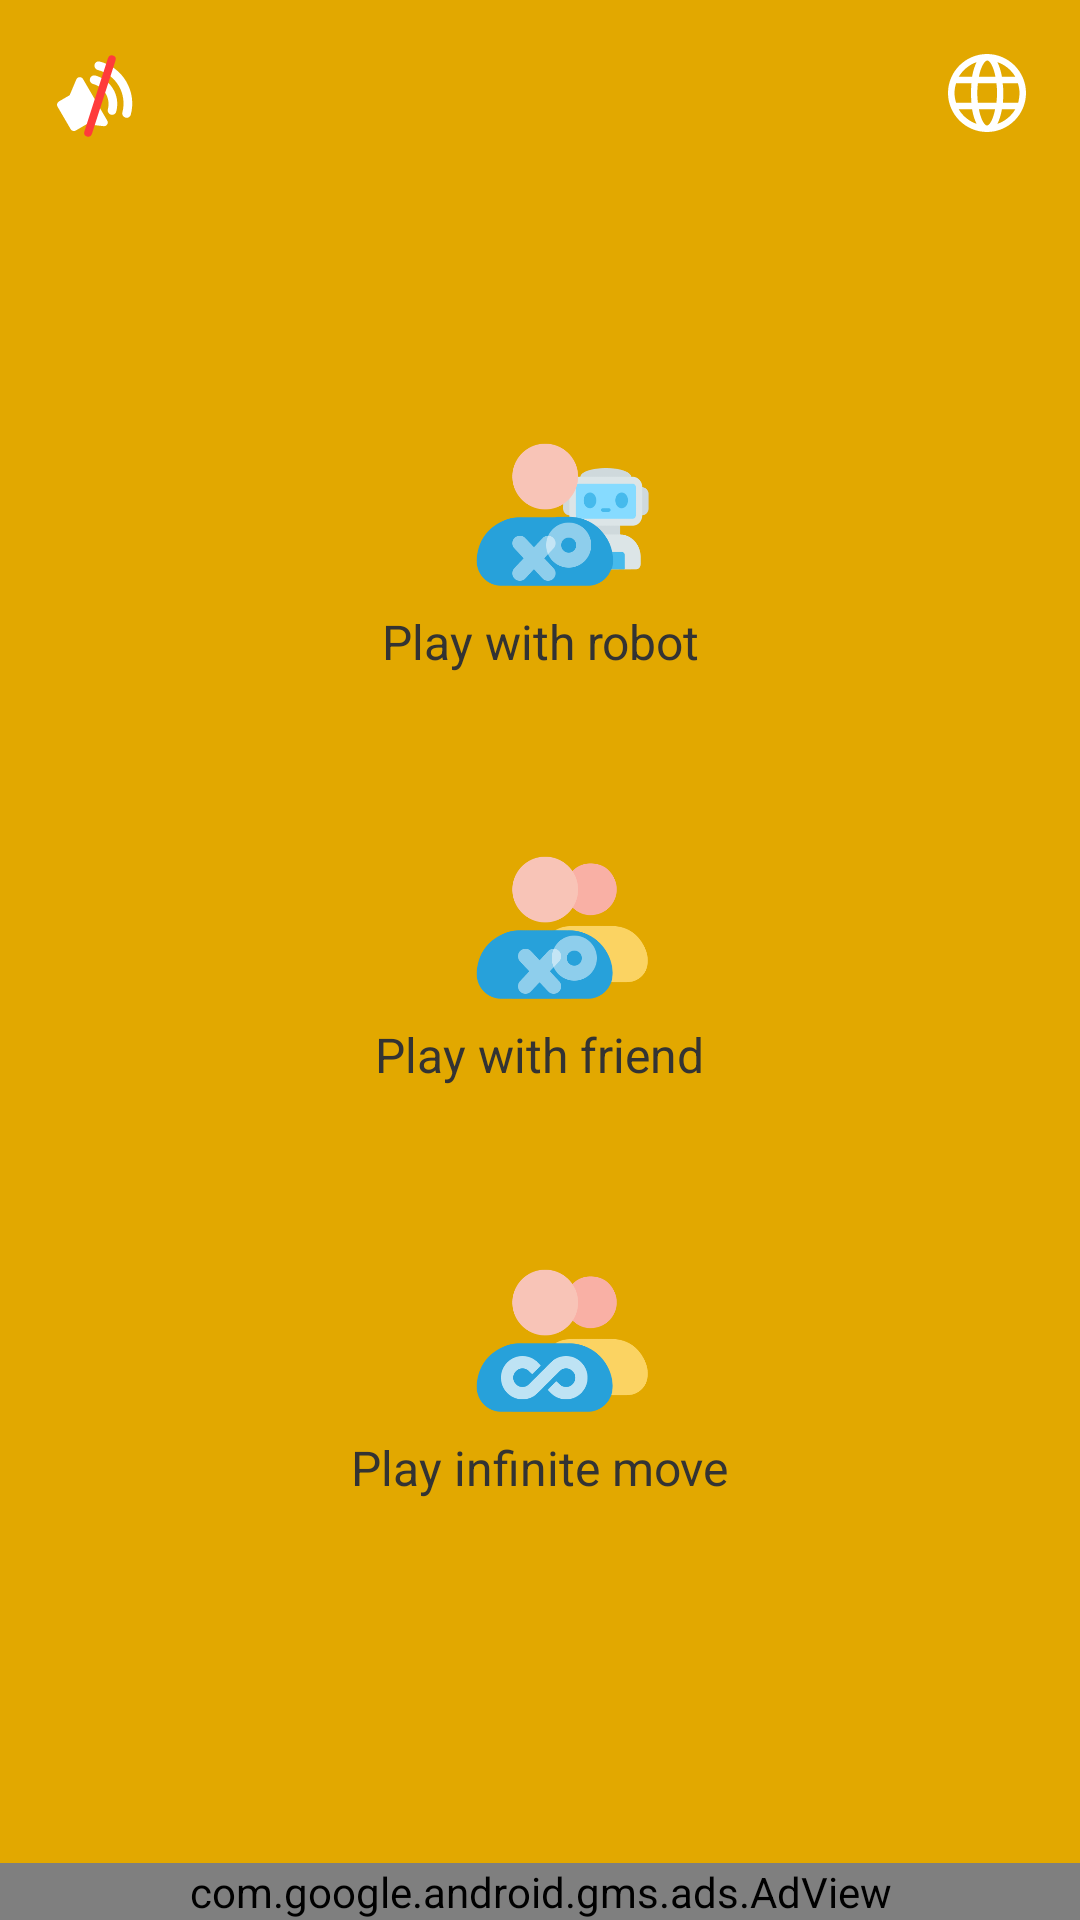

Named icons in this screenshot (1080px x 1920px) and their bounding boxes, (x1,y1,x2,y2):
audio no: (57,55,133,137)
language: (948,54,1026,132)
